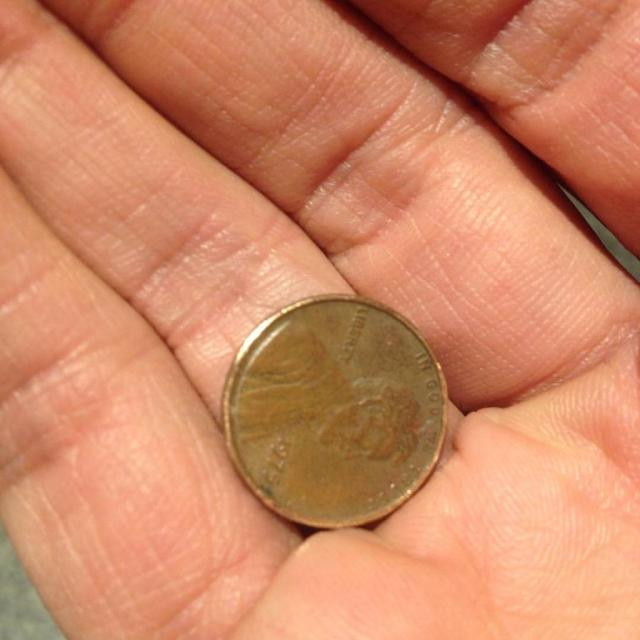Coin: (223, 293, 448, 529)
